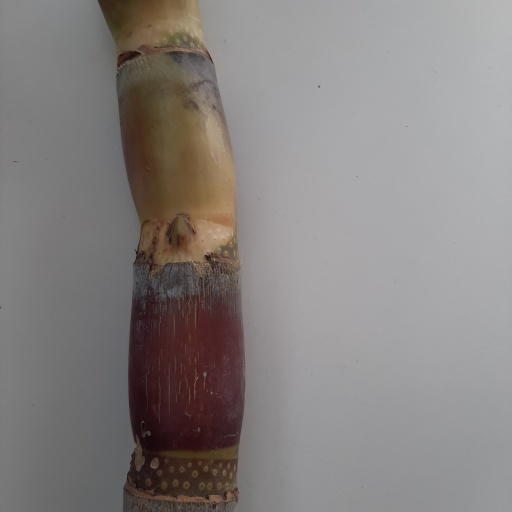Bud: (167, 216, 198, 248)
